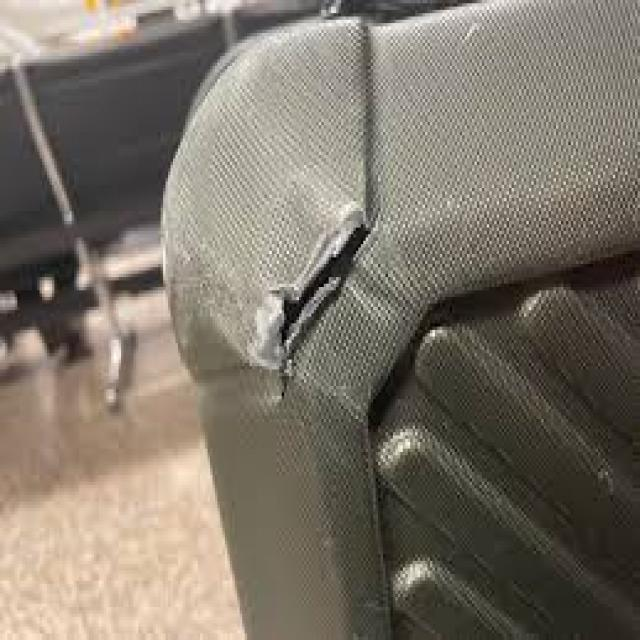Damage-bag: (165, 202, 372, 398)
